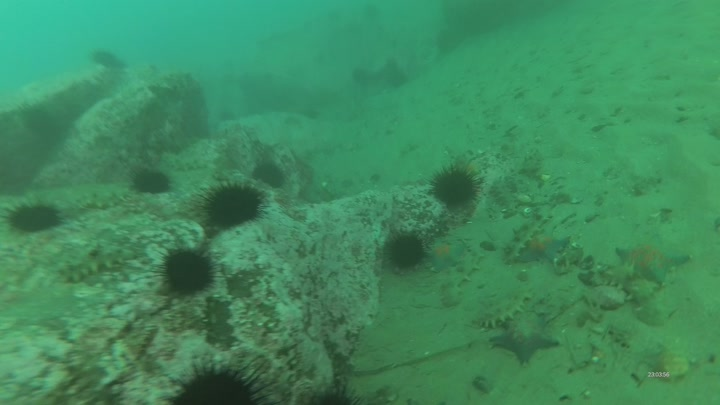echinus: (163, 357, 281, 405), (193, 178, 275, 231), (149, 247, 228, 299), (423, 162, 488, 210), (1, 195, 70, 235), (379, 228, 431, 274), (24, 105, 68, 150), (297, 382, 370, 405), (126, 168, 173, 195), (250, 159, 290, 190), (91, 49, 129, 75)
holothurian: (591, 261, 671, 329), (56, 246, 140, 284), (439, 249, 488, 309), (501, 215, 551, 266), (472, 295, 533, 331), (84, 187, 136, 211), (161, 151, 212, 173), (490, 179, 520, 213), (520, 150, 544, 176)
starfish: (614, 231, 695, 289), (487, 310, 564, 368), (517, 226, 573, 266), (427, 237, 472, 274)
